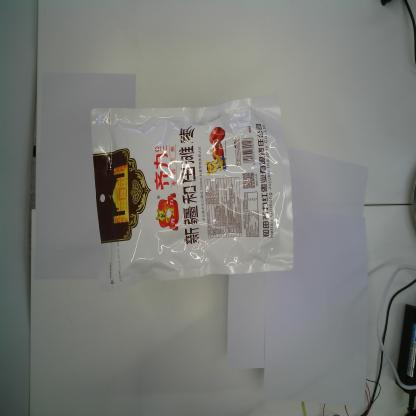Dried Food: (90, 95, 294, 291)
